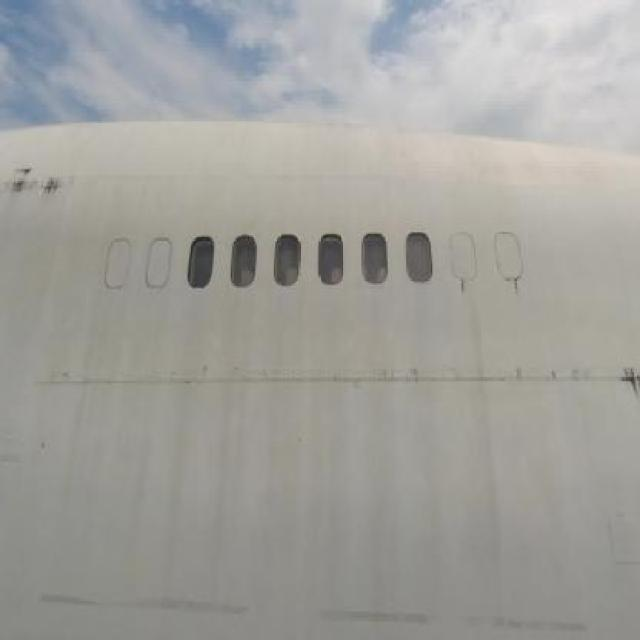Rust: (1, 161, 84, 216), (611, 344, 640, 402), (512, 276, 528, 304), (456, 280, 472, 306)
Scartch: (28, 569, 606, 634)
